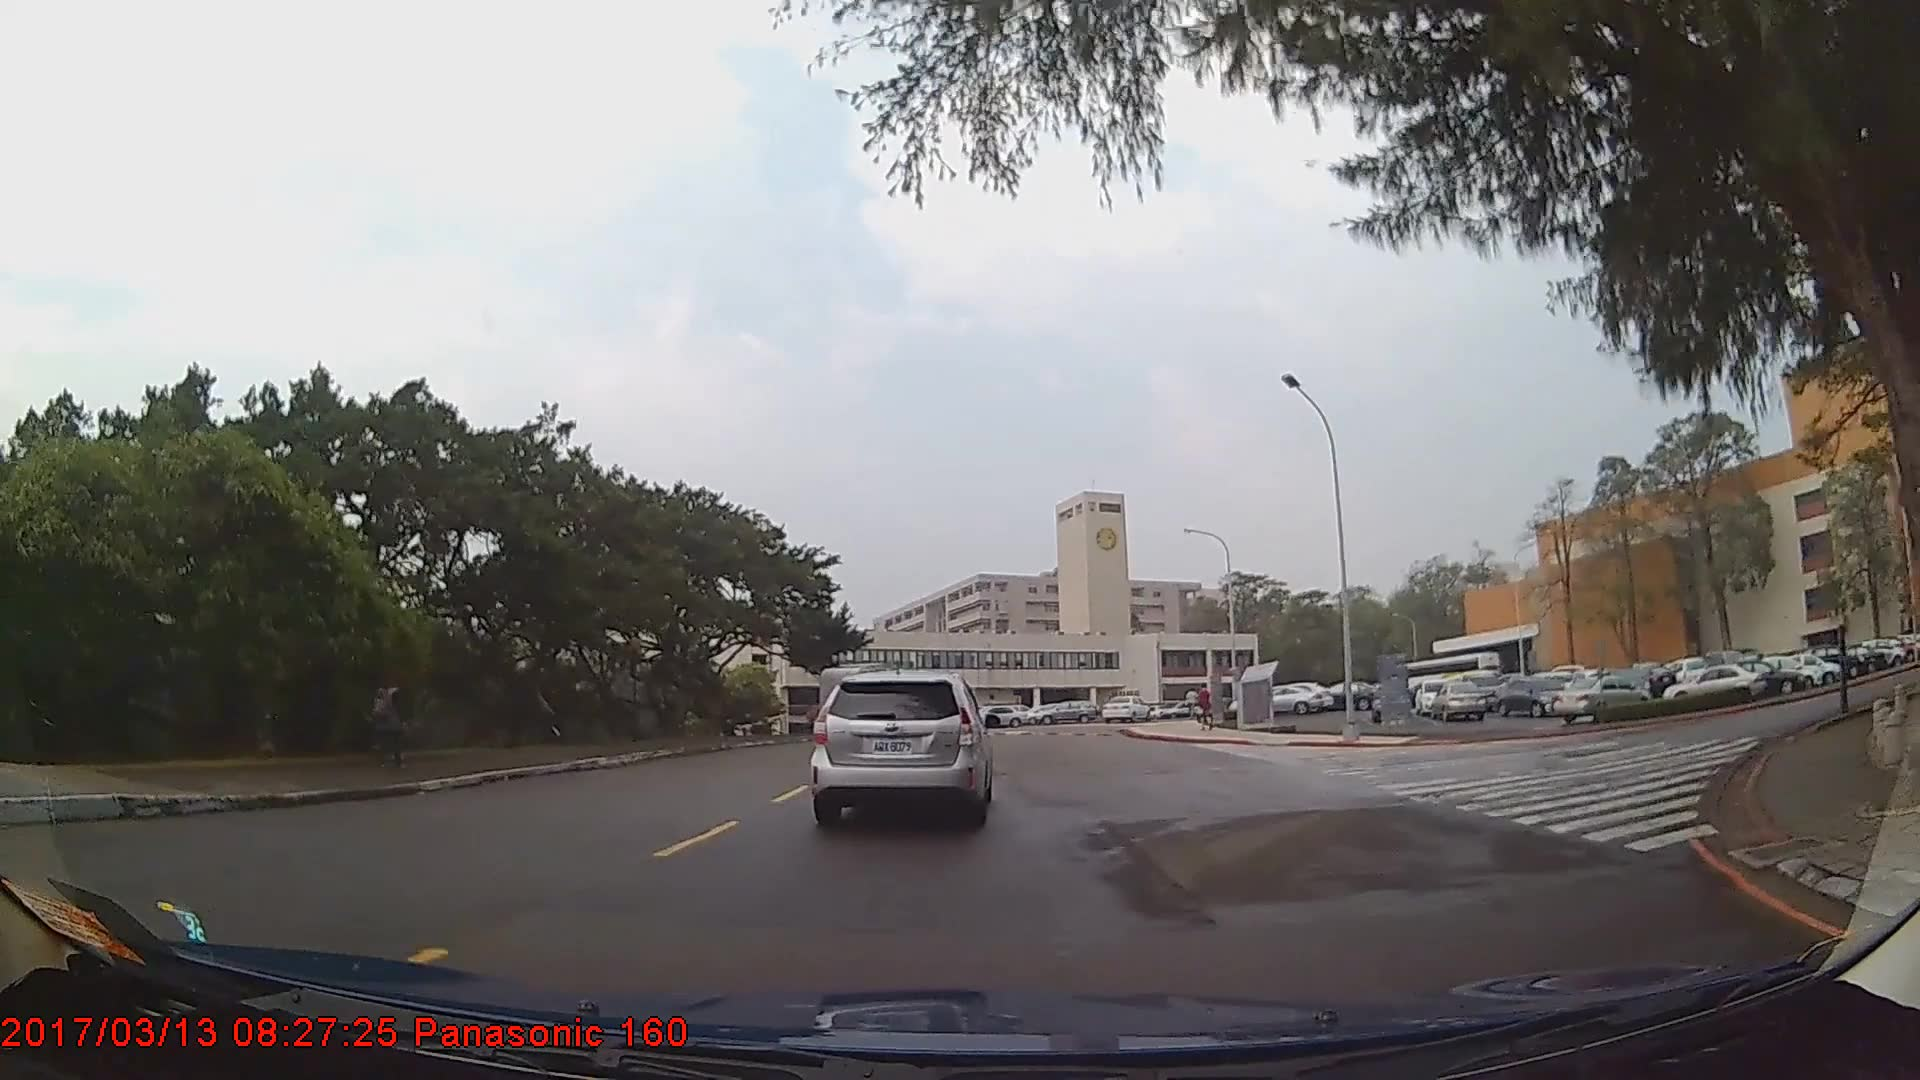pedestrian: (365, 662, 412, 765), (1195, 683, 1215, 734)
vehicle: (812, 670, 989, 827), (1551, 673, 1651, 724), (1663, 663, 1762, 711), (1716, 657, 1807, 697), (1497, 675, 1573, 718), (1430, 675, 1488, 720), (1246, 679, 1323, 712), (1100, 692, 1149, 724), (1034, 697, 1095, 723), (971, 703, 1029, 726)
